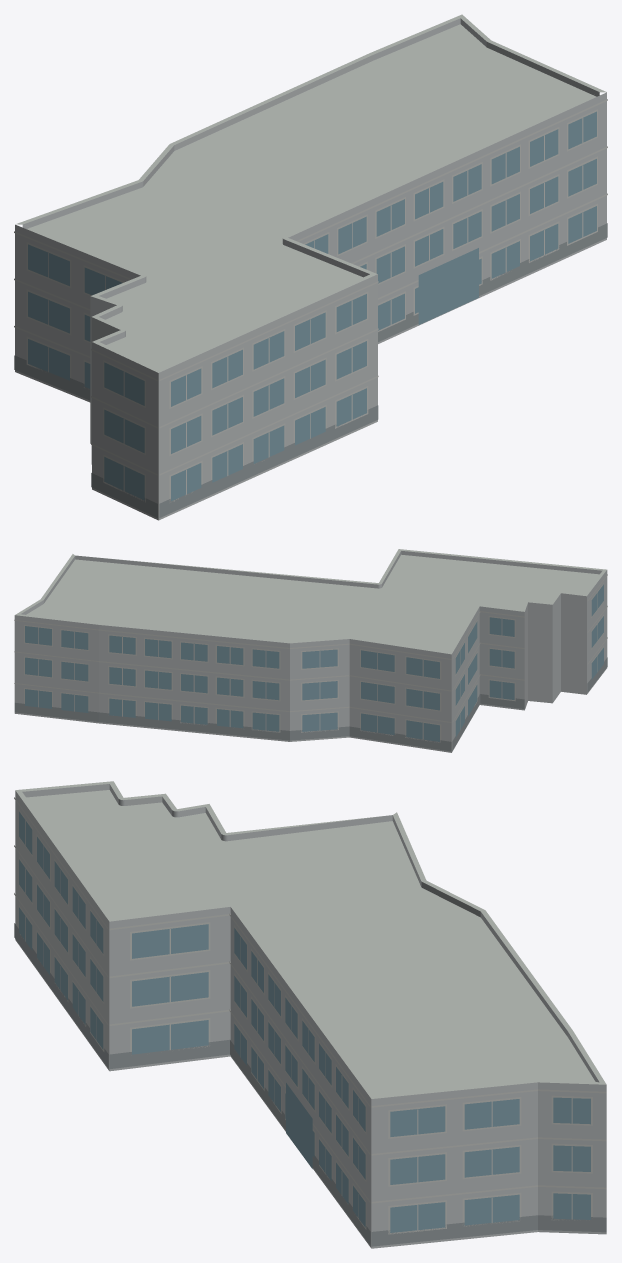
File: public-07ba77cd-fe70-47fd-b5b9-38b3d1d34ff4.glb
3 renders of one model, top to bottom at view 1: azimuth 30°, elevation 25°; view 2: azimuth 150°, elevation 25°; view 3: azimuth 270°, elevation 25°, orthographic. The views are drawn at different scales.
Visible parts, largest first — view 1: public-07ba77cd-fe70-47fd-b5b9-38b3d1d34ff4; view 2: public-07ba77cd-fe70-47fd-b5b9-38b3d1d34ff4; view 3: public-07ba77cd-fe70-47fd-b5b9-38b3d1d34ff4.
Boxes of the visible parts, x1,y1,x2,y2 form: public-07ba77cd-fe70-47fd-b5b9-38b3d1d34ff4: [14, 14, 607, 520]; public-07ba77cd-fe70-47fd-b5b9-38b3d1d34ff4: [14, 549, 607, 752]; public-07ba77cd-fe70-47fd-b5b9-38b3d1d34ff4: [14, 781, 606, 1248].
Size of the model in its own units: 41.81 by 9.15 by 32.91.
